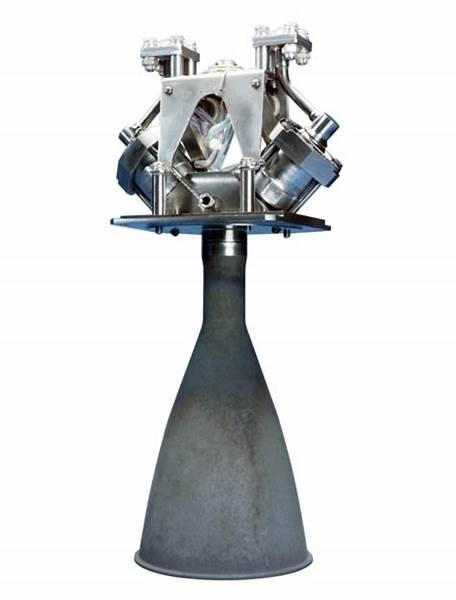thruster: (132, 254, 315, 580)
